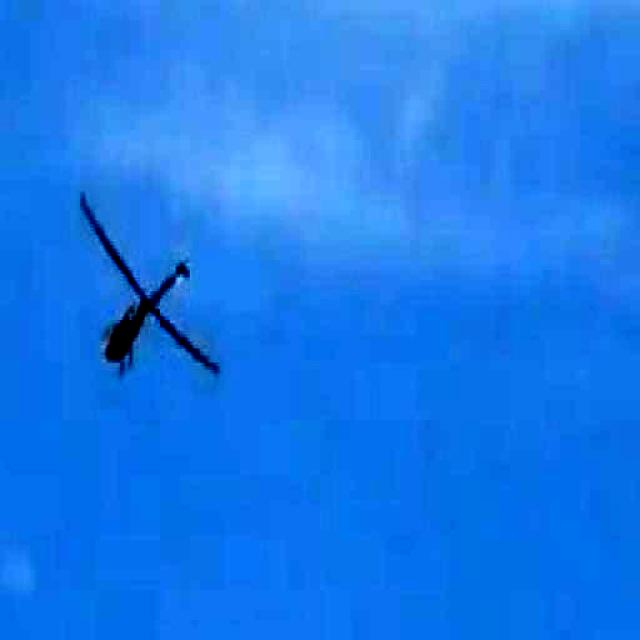drone: (70, 164, 224, 424)
